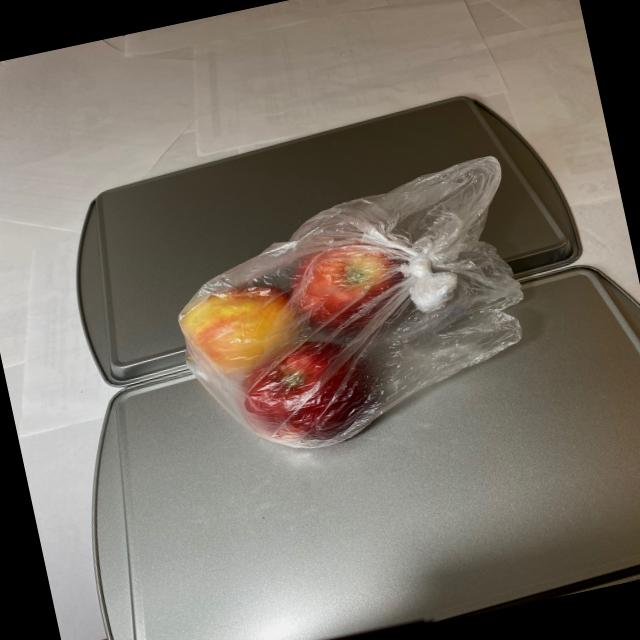apple: (165, 221, 442, 476)
